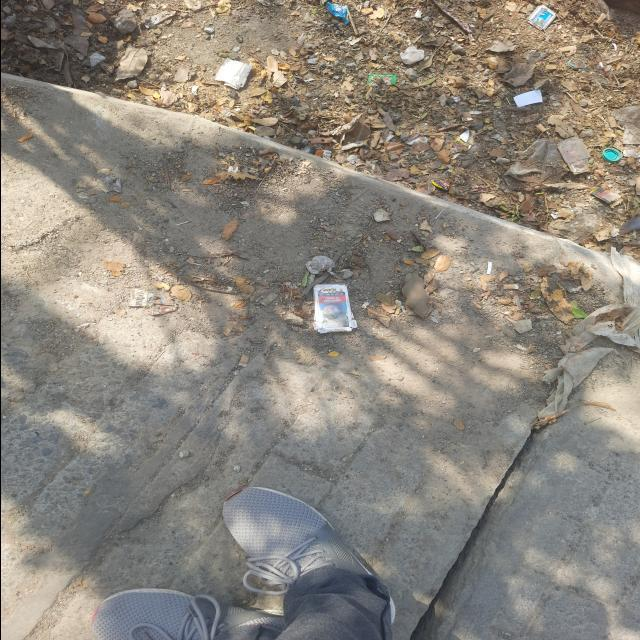Background: (2, 0, 640, 640)
Cig_bud: (502, 284, 518, 290), (535, 124, 545, 132)
Cig_pack: (312, 284, 357, 334), (557, 138, 588, 174)
Plastic: (502, 139, 563, 190), (600, 148, 622, 162), (565, 58, 585, 69)
Plastic_Bag: (562, 250, 640, 354), (537, 348, 612, 419)
Plastic_wraper: (325, 2, 348, 24), (367, 72, 397, 86), (590, 188, 620, 202), (450, 139, 468, 152), (432, 179, 448, 190)
